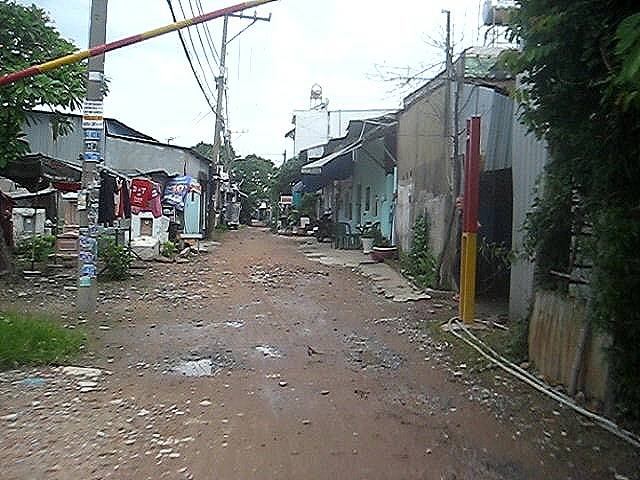hole: (429, 441, 540, 480), (374, 378, 460, 426), (337, 332, 408, 378), (141, 351, 230, 380), (46, 356, 115, 393), (249, 265, 328, 285), (247, 342, 288, 359), (222, 318, 249, 329)
